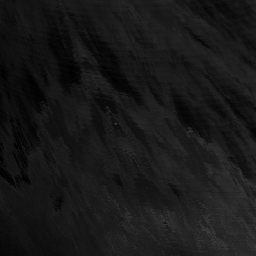Target: (113, 121, 118, 126)
